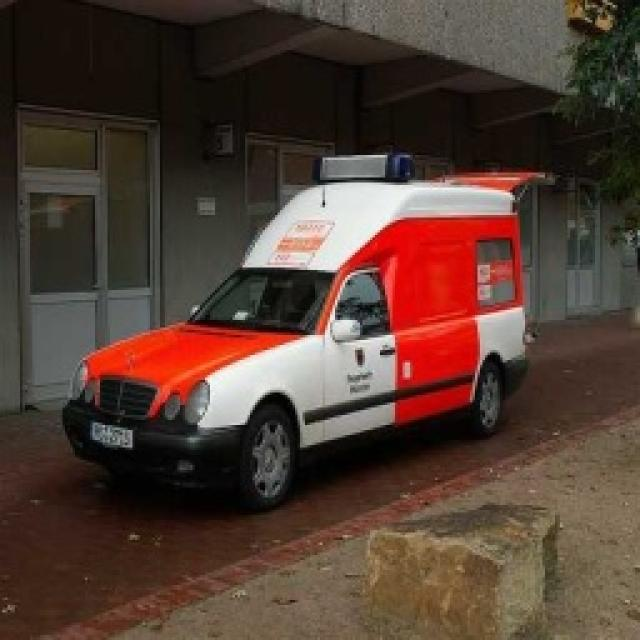ambulance: (62, 152, 528, 510)
